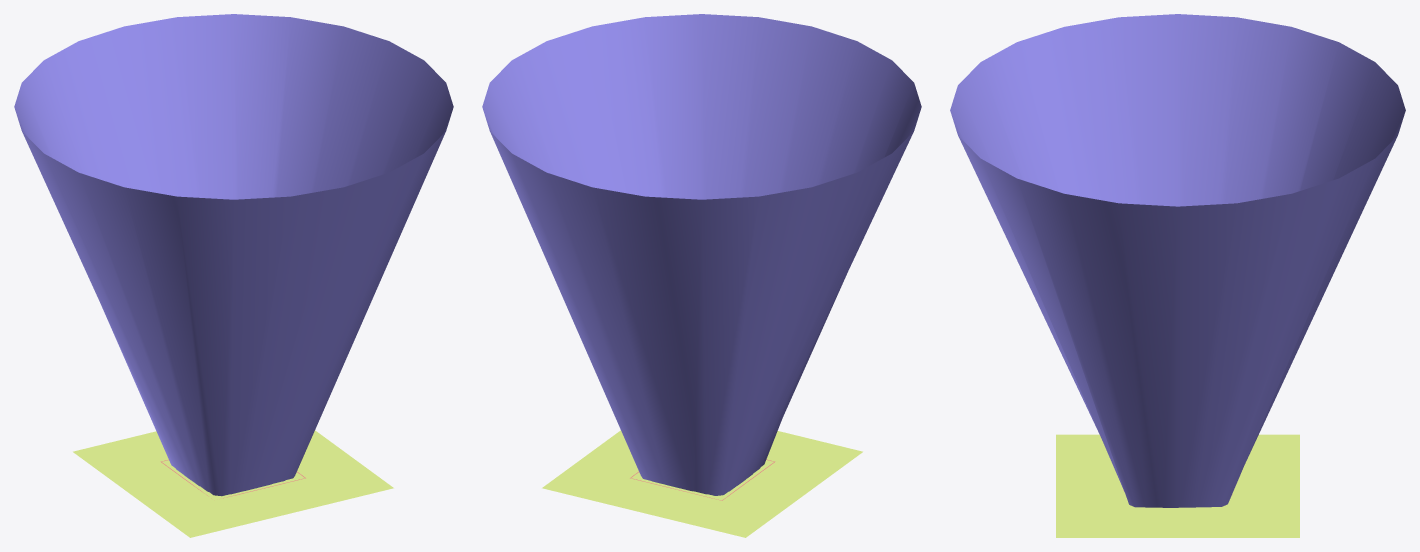
The model's file is Light_DengPian1_1X1_on.FBX.
3 views of the same model, side by side, from view 1: azimuth 30°, elevation 25°; view 2: azimuth 150°, elevation 25°; view 3: azimuth 270°, elevation 25° (orthographic). The views are drawn at different scales.
Visible parts, largest first — view 1: Box001; view 2: Box001; view 3: Box001.
Part boxes in pixels (box(x1,y1,x2,y2)): Box001: box(14, 14, 453, 537); Box001: box(482, 14, 921, 537); Box001: box(950, 14, 1405, 537).
Bounding box in the file's own units: 3.73 × 3.6 × 3.73.
